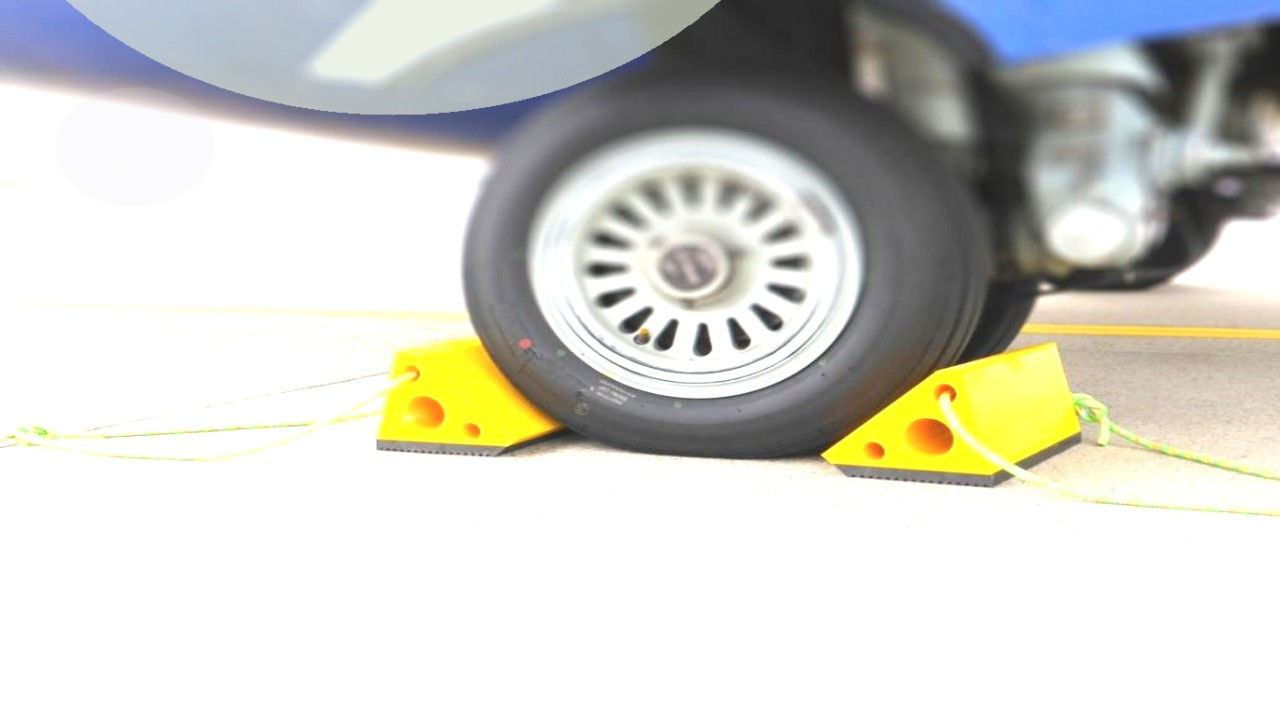chock: (818, 341, 1080, 488), (370, 333, 570, 456)
wheel: (461, 70, 979, 457)
